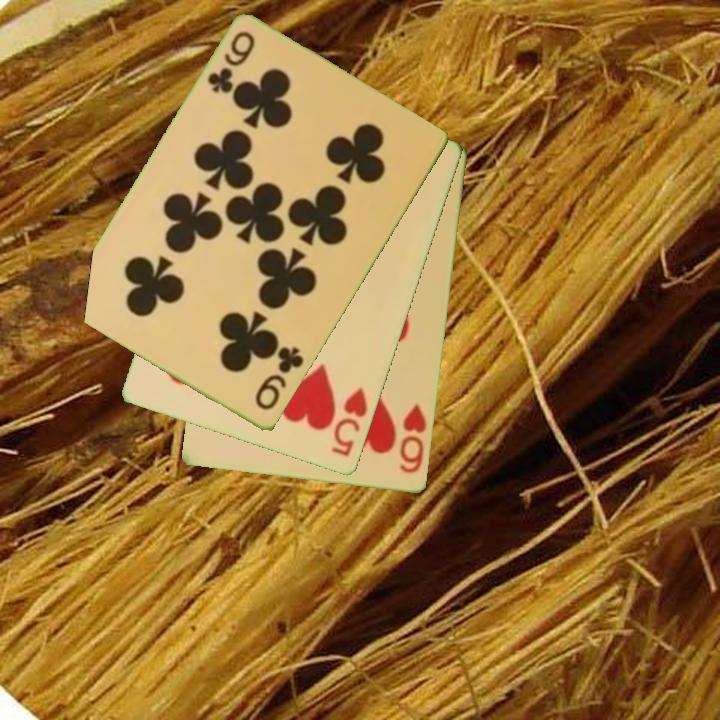5h: (328, 384, 371, 460)
6h: (396, 400, 430, 477)
9c: (251, 343, 307, 414), (203, 28, 259, 98)
